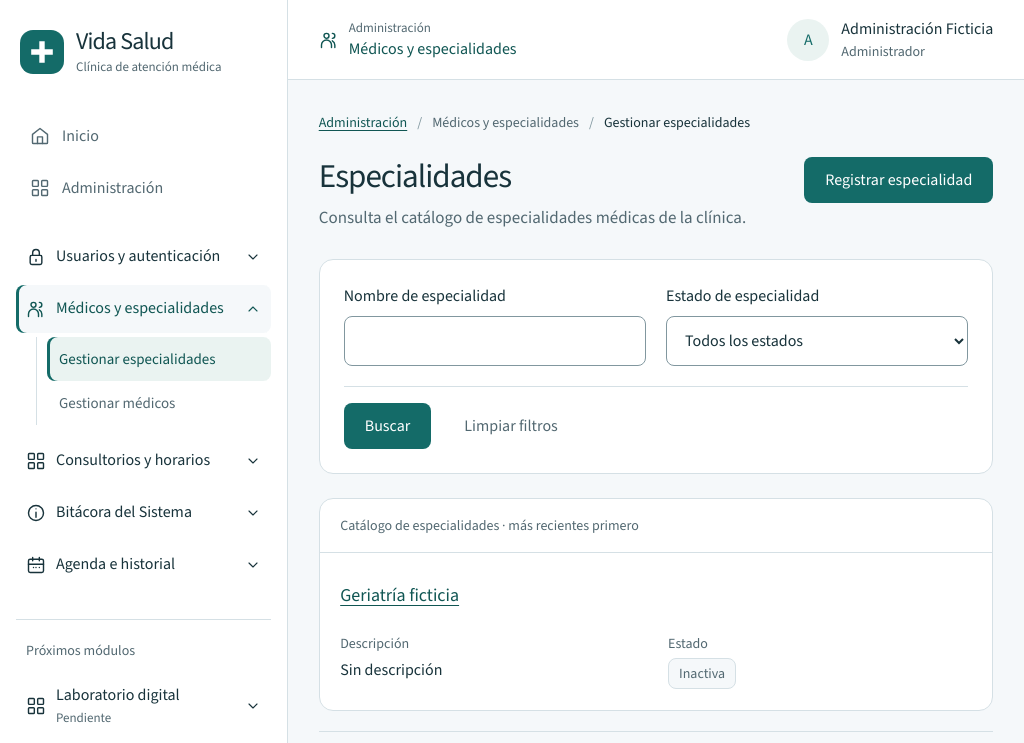
Test case: consulta de Médicos y Especialidades, fase 1 › muestra error seguro 403, filtros conservados y recuperación manual
Expected: the table is shown, [320,499,992,710]
Type "Geriatría" into the field labelled "Nombre de especialidad". click: (495, 340)
box: [344,316,646,366]
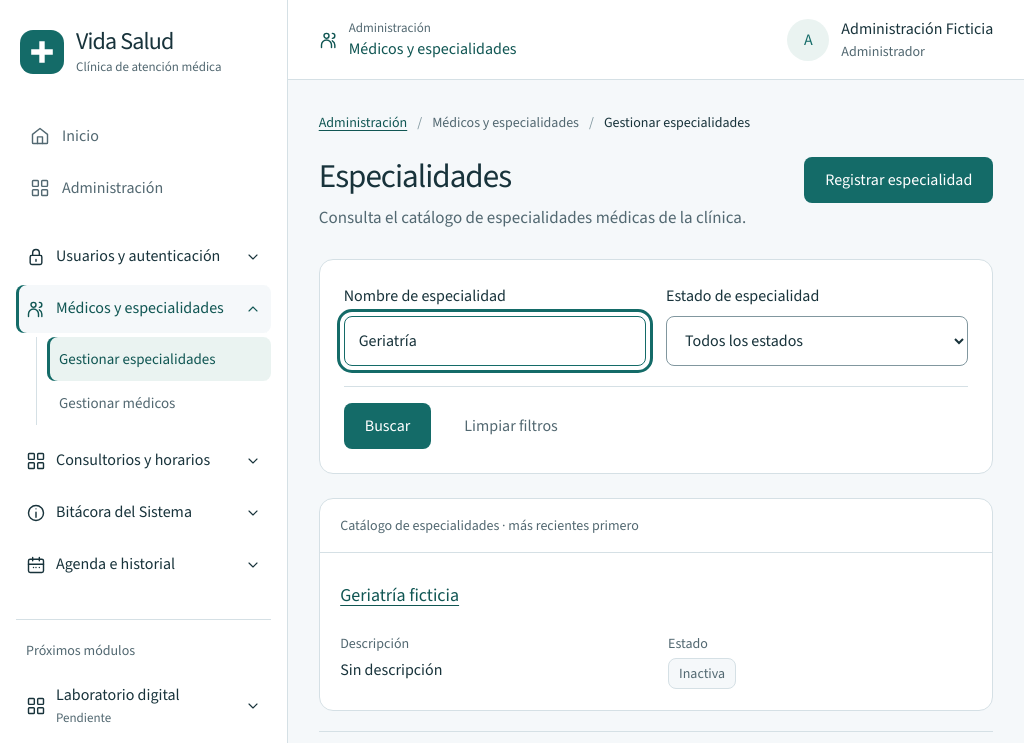
Click the button "Buscar". click: click(388, 426)
box: [344,402,431,449]
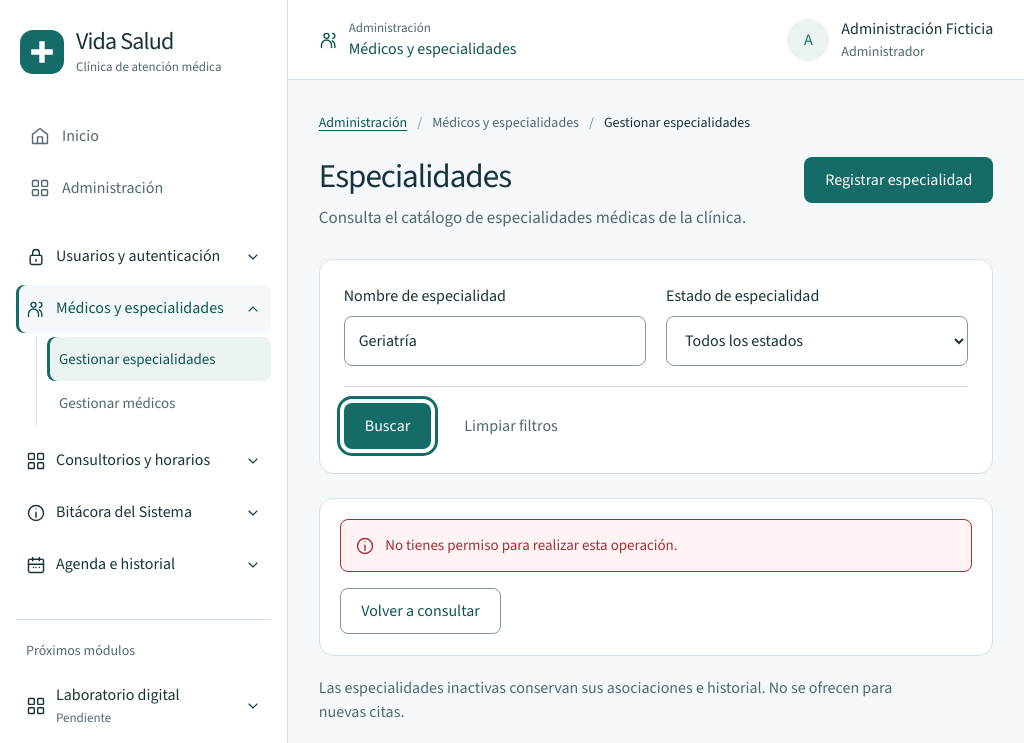
Expected: the message "No tienes permiso para realizar esta operación." is shown, [340,519,972,572]
Click the button "Volver a consultar". click: click(421, 611)
box: [340,588,501,634]
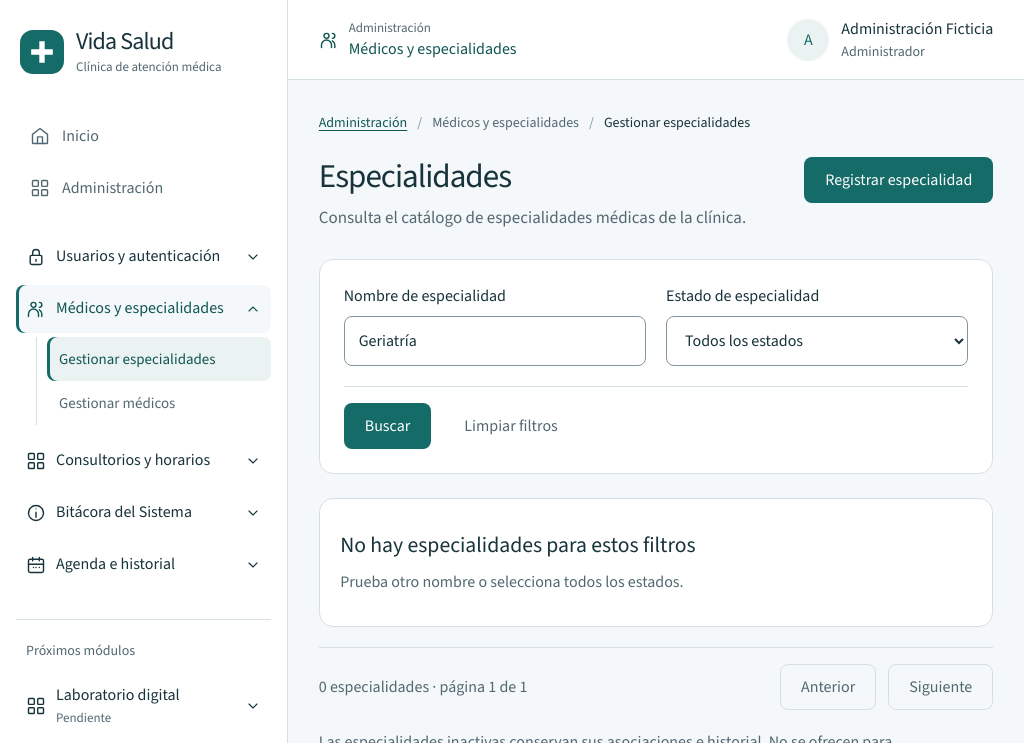
Expected: the heading "No hay especialidades para estos filtros" is shown, [340,530,696,559]
